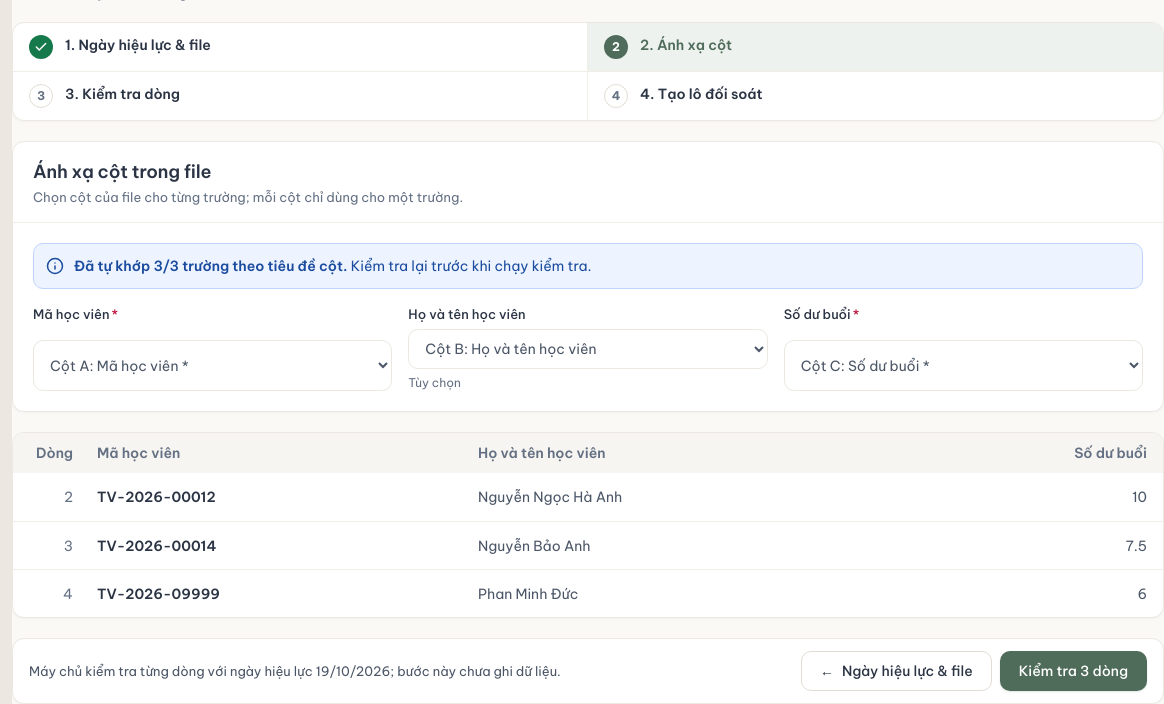
Test case: SessionBalanceImportPage wizard › mapping: a refused or lost check stays on the step, in words
(page scrolled)
Step 1. Click the button "Kiểm tra 3 dòng" → (1073, 671), box [1000, 651, 1147, 691]
(page scrolled)
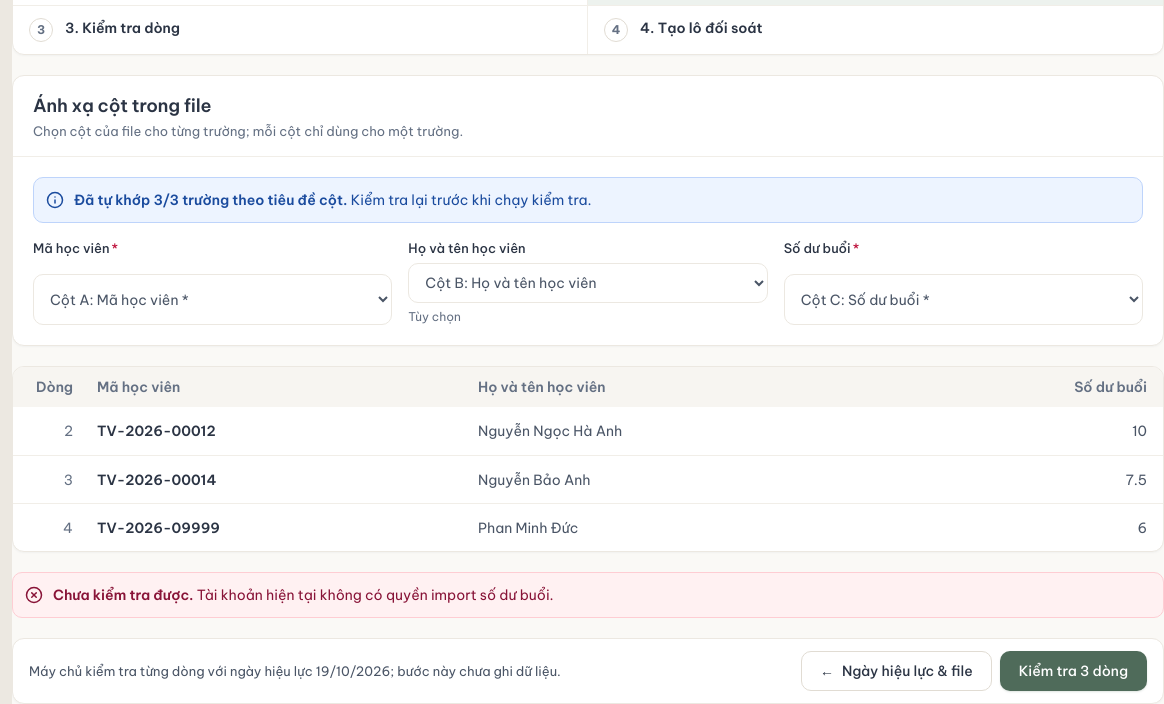
Check: the text "Tài khoản hiện tại không có quyền import số dư buổi." is shown, box [197, 586, 554, 604]
Step 2. Click the button "Kiểm tra 3 dòng" → (1073, 671), box [1000, 651, 1147, 691]
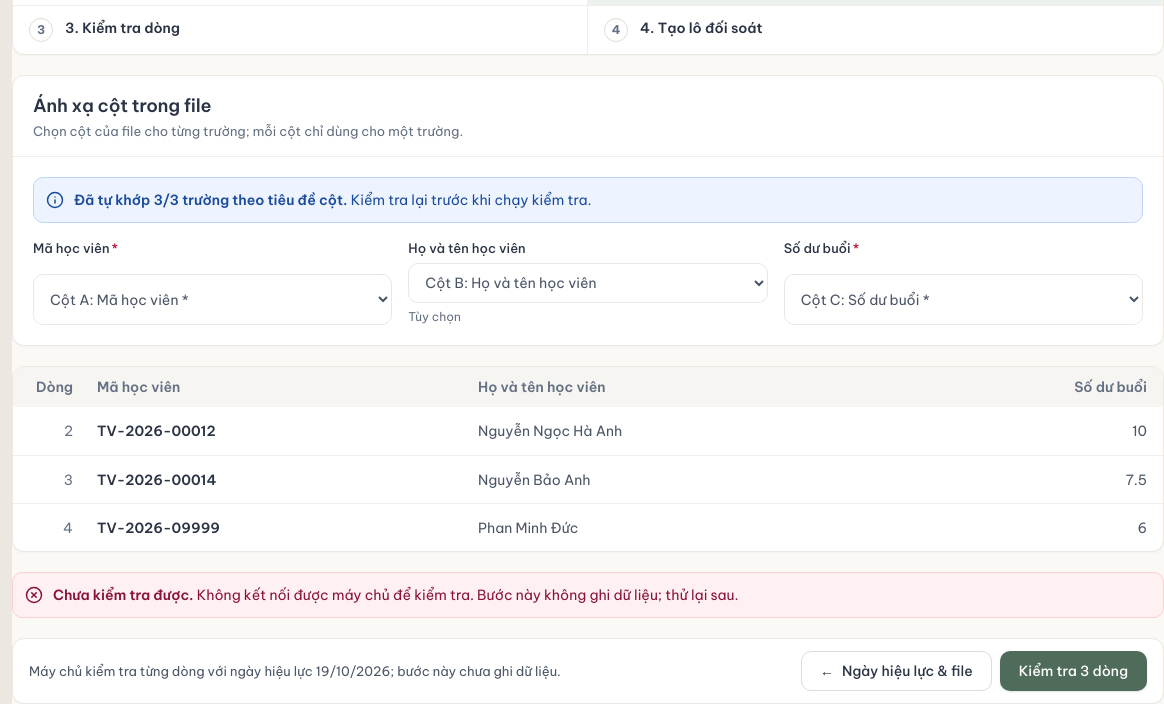
Check: the text "Không kết nối được máy chủ để kiểm tra. Bước này không ghi dữ liệu; thử lại sau." is shown, box [197, 586, 738, 604]
